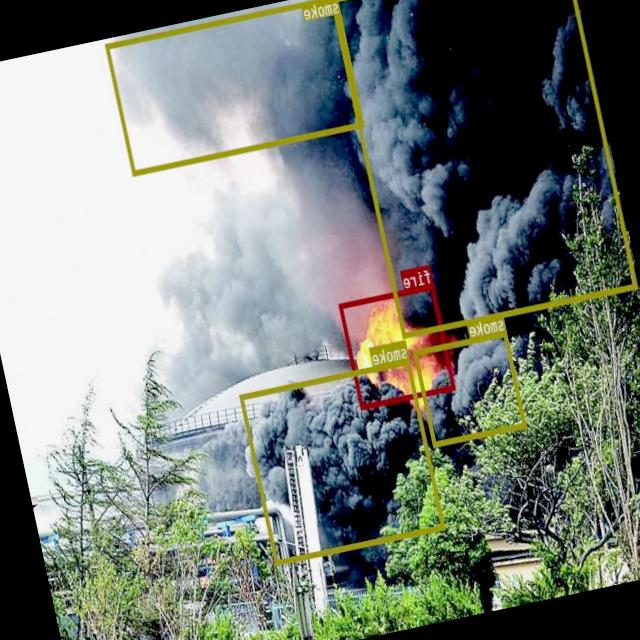fire: (339, 282, 456, 408)
smoke: (331, 0, 638, 336), (105, 0, 365, 174), (239, 357, 446, 564), (413, 329, 527, 446)
